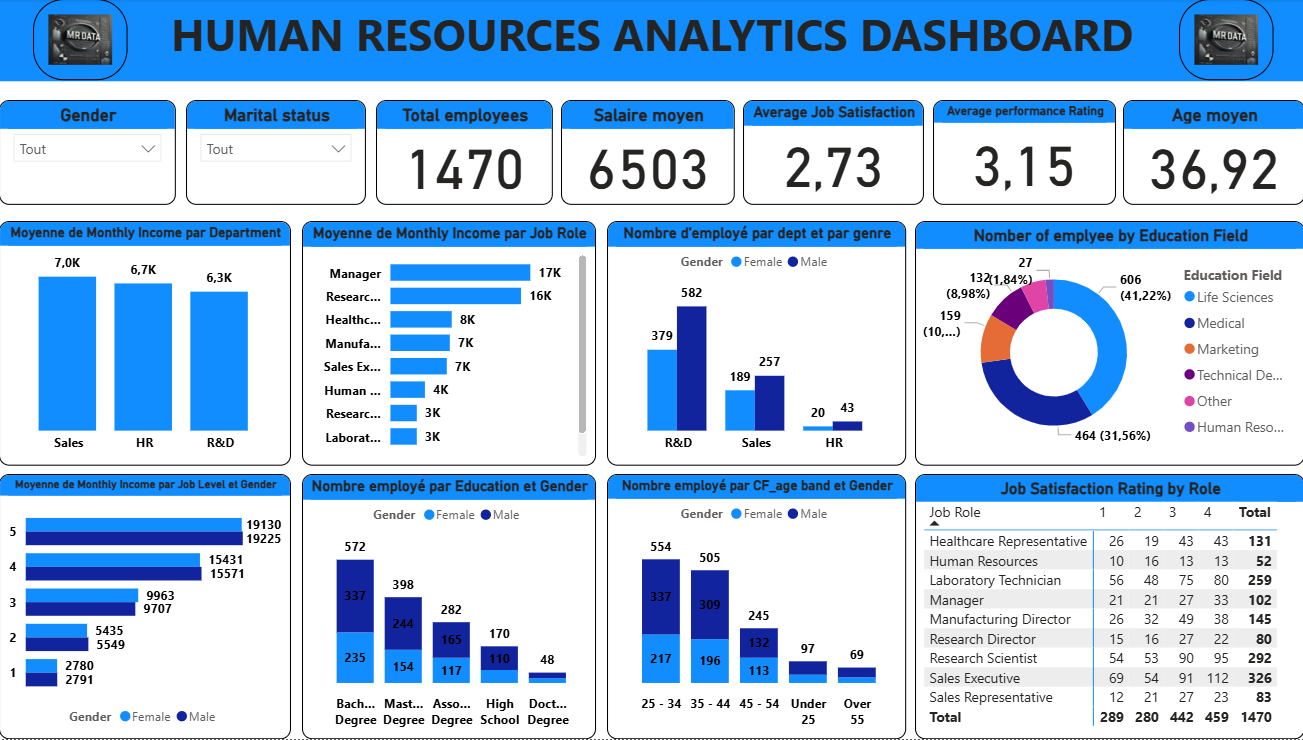

The dashboard page shown, as its layout file describes it:
{"tool":"powerbi","page":{"name":"Gestion des resources humaines","canvas":[1280,720],"ordinal":0},"visuals":[{"type":"textbox","box":[9.7,0,1270.3,79.8],"z":0},{"type":"slicer","title":"Gender","fields":{"Values":["HR data.Gender"]},"box":[10.2,98.6,171.8,101.7],"z":1000},{"type":"slicer","title":"Marital status","fields":{"Values":["HR data.Marital Status"]},"box":[191.1,98.6,174.9,101.7],"z":3000},{"type":"card","title":"Total employees","fields":{"Values":["HR data.Nombre employé"]},"box":[376.2,98.6,171.8,101.7],"z":4000},{"type":"card","title":"Salaire moyen","fields":{"Values":["Avg(HR data.Monthly Income)"]},"box":[556.1,98.6,168.8,101.7],"z":5000},{"type":"card","title":"Average Job Satisfaction","fields":{"Values":["Avg(HR data.Job Satisfaction)"]},"box":[733,98.6,175.9,101.7],"z":6000},{"type":"card","title":"Average performance Rating","fields":{"Values":["Avg(HR data.Performance Rating)"]},"box":[918.1,98.6,177.9,101.7],"z":7000},{"type":"card","title":"Age moyen","fields":{"Values":["Avg(HR data.Age)"]},"box":[1103.1,98.6,176.9,101.7],"z":8000},{"type":"columnChart","fields":{"Category":["HR data.Department"],"Y":["Avg(HR data.Monthly Income)"]},"box":[10.2,215.5,283.7,237.9],"z":9000},{"type":"barChart","fields":{"Y":["Avg(HR data.Monthly Income)"],"Category":["HR data.Job Role"]},"box":[304,215.5,285.7,237.9],"z":9001},{"type":"clusteredColumnChart","title":"Nombre d''employé par dept et par  genre","fields":{"Category":["HR data.Department"],"Y":["CountNonNull(HR data.emp no)"],"Series":["HR data.Gender"]},"box":[600.9,215.5,290.8,237.9],"z":9002},{"type":"donutChart","title":"Nomber of emplyee by Education Field","fields":{"Y":["CountNonNull(HR data.emp no)"],"Category":["HR data.Education Field"]},"box":[900.8,215.5,379.2,237.9],"z":9003},{"type":"clusteredBarChart","fields":{"Y":["Avg(HR data.Monthly Income)"],"Category":["HR data.Job Level"],"Series":["HR data.Gender"]},"box":[10.2,461.6,283.7,258.2],"z":9004},{"type":"columnChart","fields":{"Category":["HR data.Education"],"Y":["HR data.Nombre employé"],"Series":["HR data.Gender"]},"box":[304,461.6,285.7,258.2],"z":9005},{"type":"columnChart","fields":{"Y":["HR data.Nombre employé"],"Series":["HR data.Gender"],"Category":["HR data.CF_age band"]},"box":[600.9,461.6,290.8,258.2],"z":9006},{"type":"pivotTable","title":"Job Satisfaction Rating by Role","fields":{"Rows":["HR data.Job Role"],"Columns":["HR data.Job Satisfaction"],"Values":["HR data.Nombre employé"]},"box":[900.8,461.6,379.2,258.2],"z":9007},{"type":"image","box":[42.7,0,91.5,79.3],"z":9008},{"type":"image","box":[1157,0,91.5,79.3],"z":9009}]}

Visuals, with their boxes in screenshot pixels (x1, y1, x2, y2), scaled from the page's 1280x720 canvas onto the 1303x740 screenshot:
textbox: 10 0 1302 82
"Gender" slicer: 10 101 185 206
"Marital status" slicer: 195 101 373 206
"Total employees" card: 383 101 558 206
"Salaire moyen" card: 566 101 738 206
"Average Job Satisfaction" card: 746 101 925 206
"Average performance Rating" card: 935 101 1116 206
"Age moyen" card: 1123 101 1302 206
columnChart - HR data.Department x Avg(HR data.Monthly Income): 10 221 299 466
barChart - Avg(HR data.Monthly Income) x HR data.Job Role: 309 221 600 466
"Nombre d''employé par dept et par  genre" clusteredColumnChart: 612 221 908 466
"Nomber of emplyee by Education Field" donutChart: 917 221 1302 466
clusteredBarChart - Avg(HR data.Monthly Income) x HR data.Job Level: 10 474 299 739
columnChart - HR data.Education x HR data.Nombre employé: 309 474 600 739
columnChart - HR data.Nombre employé x HR data.Gender: 612 474 908 739
"Job Satisfaction Rating by Role" pivotTable: 917 474 1302 739
image: 43 0 137 82
image: 1178 0 1271 82
